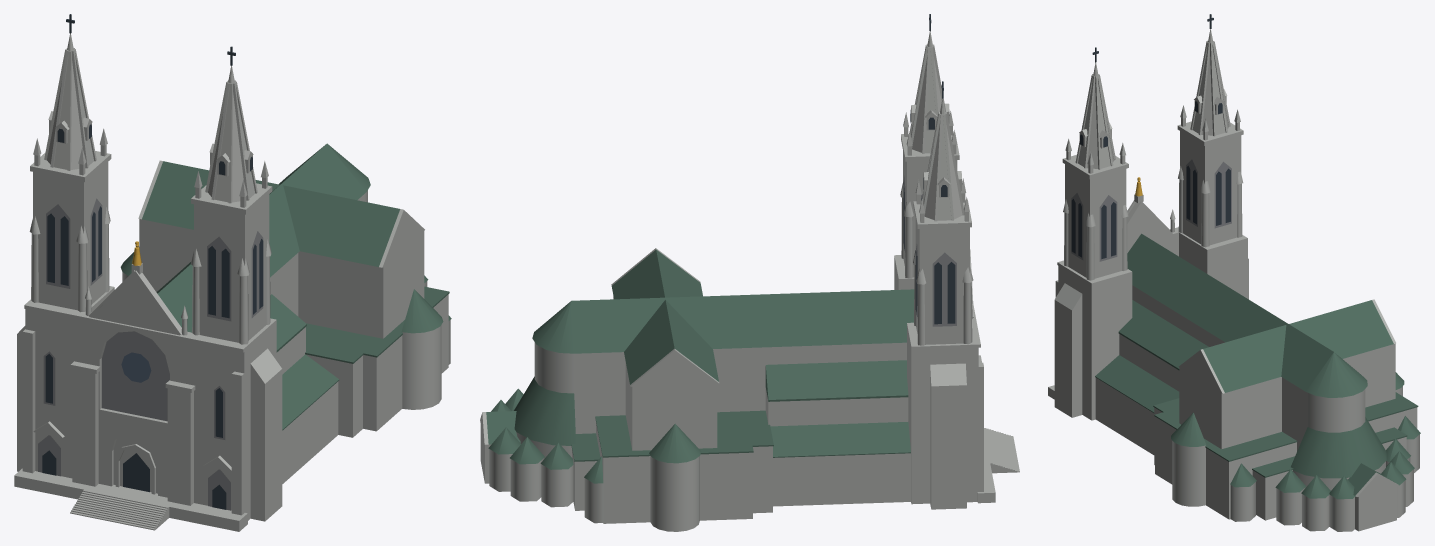
Rendered from basilique-sainte-anne-de-beaupre-far.glb.
3 views of the same model, side by side, from view 1: azimuth 30°, elevation 25°; view 2: azimuth 150°, elevation 25°; view 3: azimuth 270°, elevation 25° (orthographic). The views are drawn at different scales.
Visible parts, largest first — view 1: basilique-sainte-anne-de-beaupre-0-stone, basilique-sainte-anne-de-beaupre-0-roof, basilique-sainte-anne-de-beaupre-0-recess, basilique-sainte-anne-de-beaupre-0-glass, basilique-sainte-anne-de-beaupre-0-glow; view 2: basilique-sainte-anne-de-beaupre-0-stone, basilique-sainte-anne-de-beaupre-0-roof, basilique-sainte-anne-de-beaupre-0-glass, basilique-sainte-anne-de-beaupre-0-recess; view 3: basilique-sainte-anne-de-beaupre-0-stone, basilique-sainte-anne-de-beaupre-0-roof, basilique-sainte-anne-de-beaupre-0-glass, basilique-sainte-anne-de-beaupre-0-recess.
Part boxes in pixels (x1,y1,x2,y2): basilique-sainte-anne-de-beaupre-0-stone: (14,33,450,531); basilique-sainte-anne-de-beaupre-0-roof: (120,143,451,430); basilique-sainte-anne-de-beaupre-0-recess: (38,198,263,510); basilique-sainte-anne-de-beaupre-0-glass: (42,14,263,509); basilique-sainte-anne-de-beaupre-0-glow: (121,352,151,382); basilique-sainte-anne-de-beaupre-0-stone: (480,31,1019,531); basilique-sainte-anne-de-beaupre-0-roof: (486,249,914,483); basilique-sainte-anne-de-beaupre-0-glass: (903,14,955,324); basilique-sainte-anne-de-beaupre-0-recess: (903,175,956,326); basilique-sainte-anne-de-beaupre-0-stone: (1048,29,1419,531); basilique-sainte-anne-de-beaupre-0-roof: (1095,233,1420,499); basilique-sainte-anne-de-beaupre-0-glass: (1071,14,1230,259); basilique-sainte-anne-de-beaupre-0-recess: (1071,159,1231,261).
Size of the model in its own units: 100 by 91 by 86.23.
